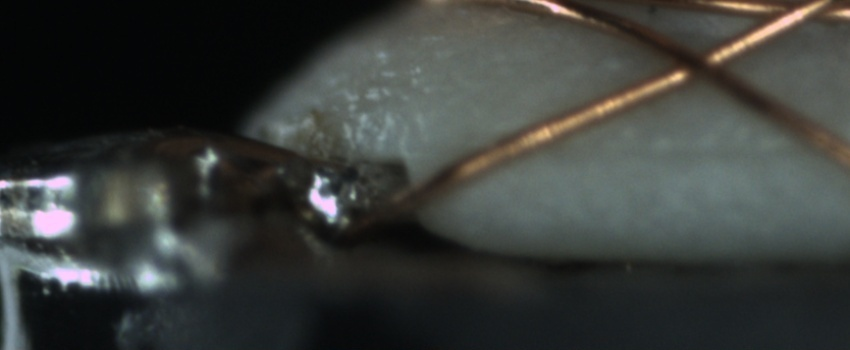CL: (650, 29, 748, 94)
DL: (532, 119, 813, 183)
